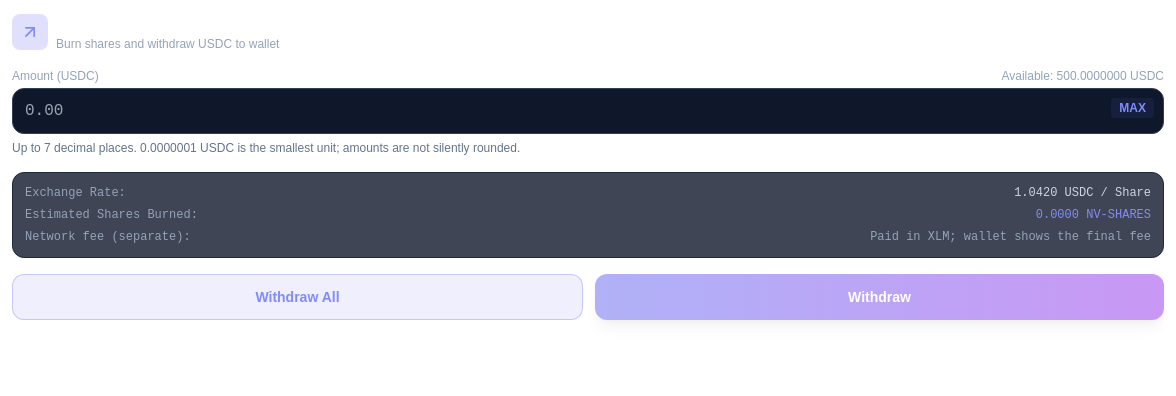
Test: WithdrawForm Component Tests › renders error message when withdraw fails
Type "25" into the number field named "withdraw amount".
click(588, 111); type("25")  # box [12,88,1164,134]
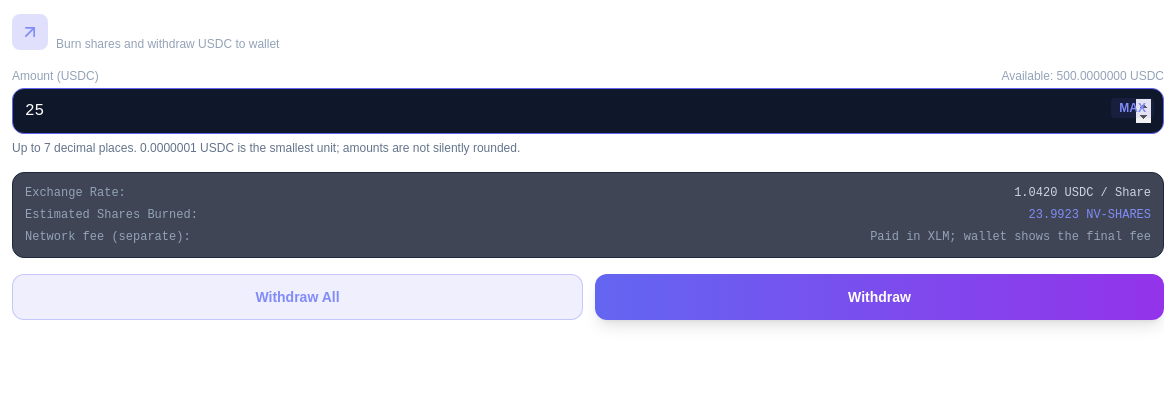
Click the button with aria-label "confirm withdraw".
click(880, 297)  # box [595,274,1164,320]
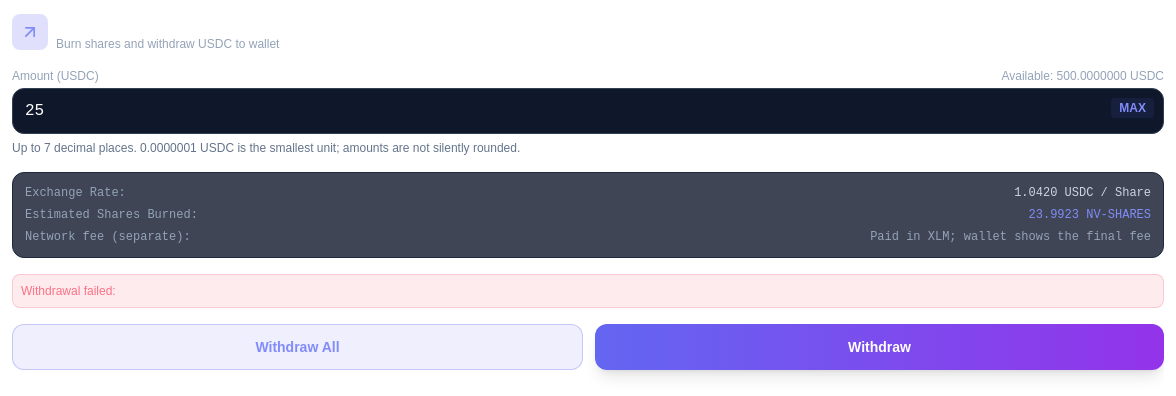
Expected: the message "Withdrawal failed:" is shown, [12,274,1164,308]
